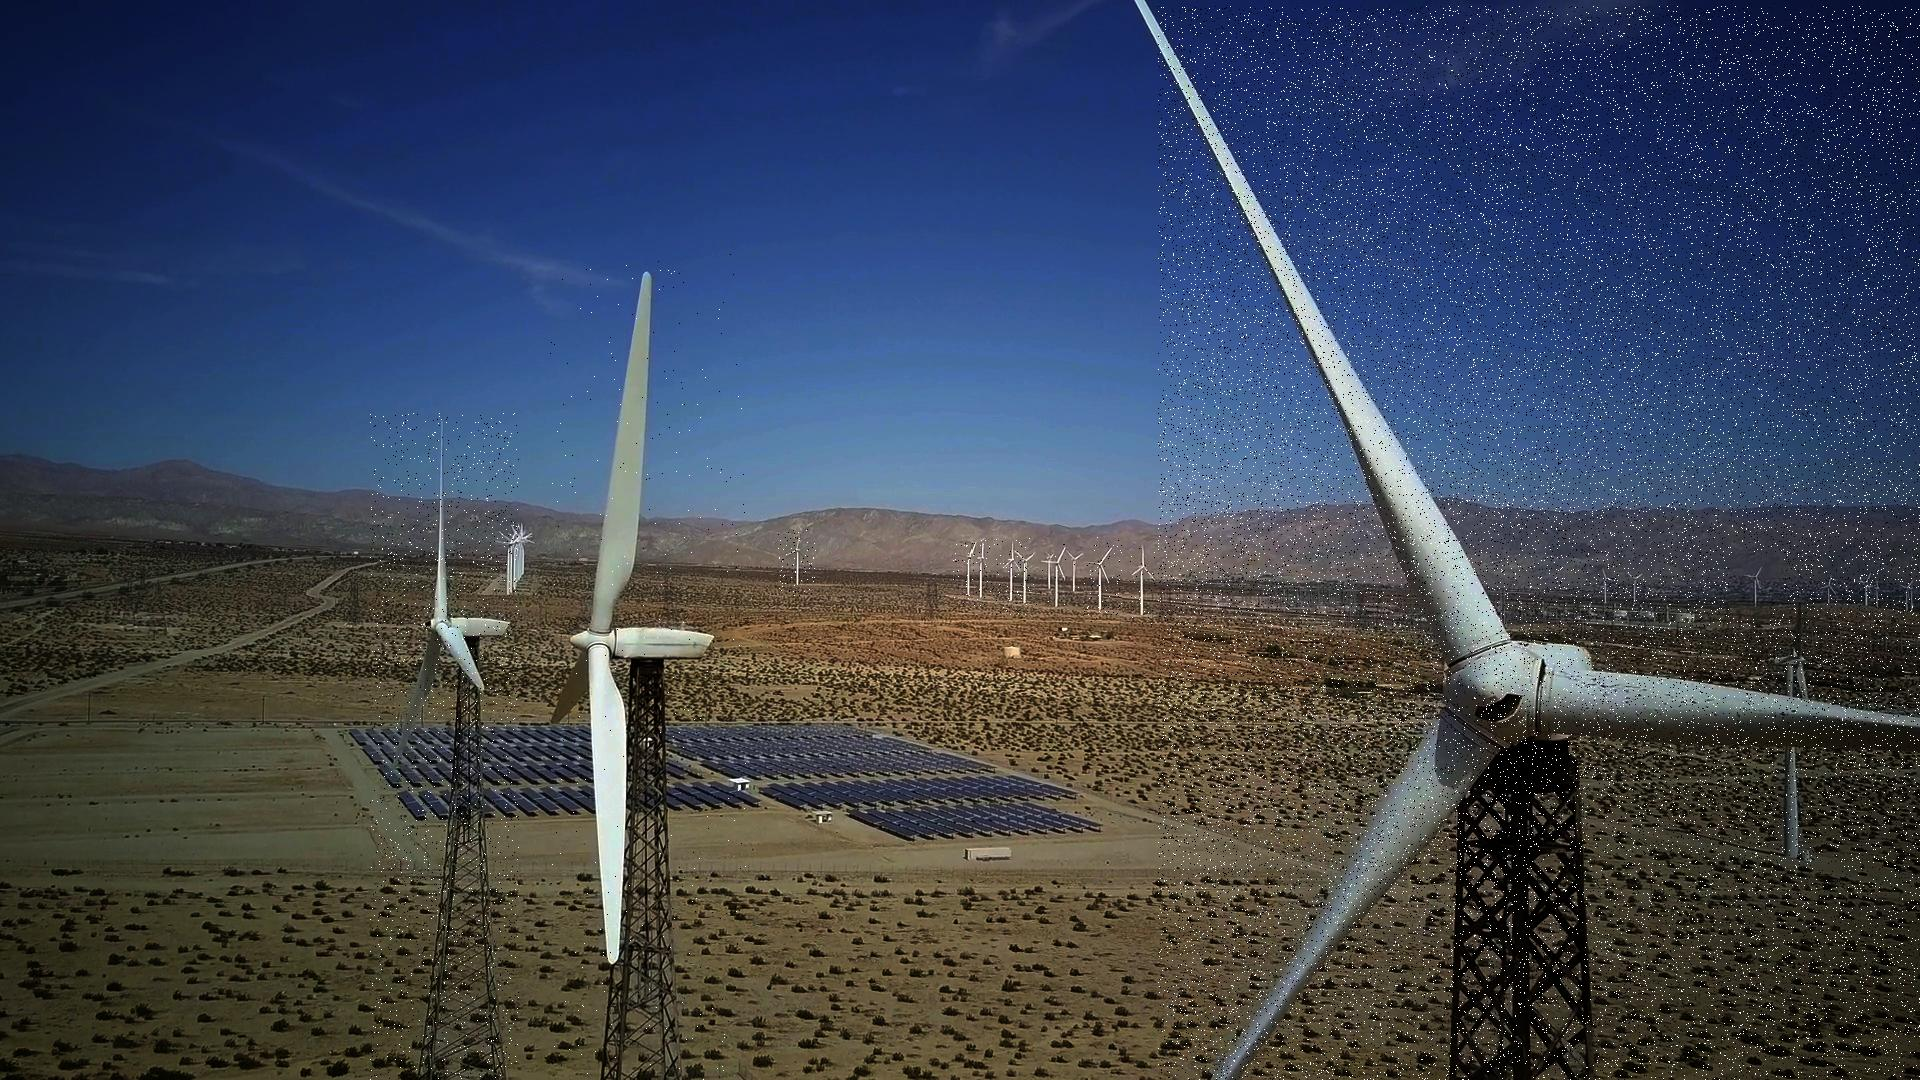turbine: (1158, 7, 1920, 1080), (550, 255, 746, 1080), (371, 411, 520, 1080), (1770, 604, 1840, 876), (1034, 541, 1083, 617), (1730, 554, 1784, 618), (1084, 538, 1122, 622), (996, 538, 1030, 616), (778, 527, 816, 596), (953, 541, 986, 607), (1130, 549, 1158, 626), (972, 541, 1000, 599)
